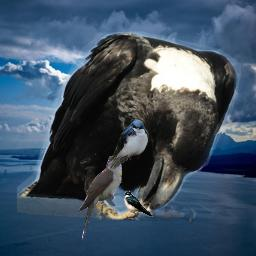Crow: (17, 28, 241, 226)
Cuckoo: (78, 155, 122, 240)
Swallow: (108, 119, 149, 170), (124, 191, 153, 217)
